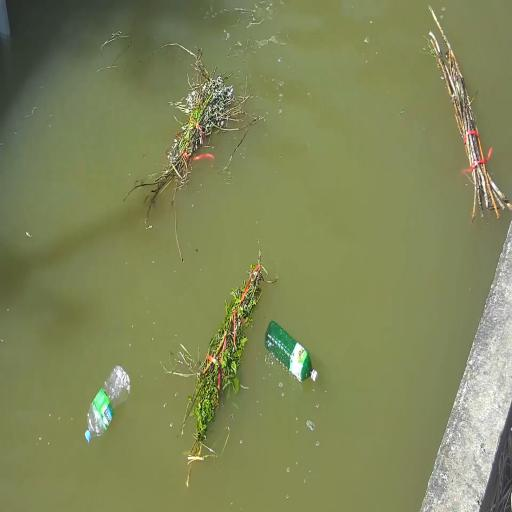plastic: (73, 355, 135, 454), (263, 312, 330, 394)
twig: (168, 255, 268, 449), (420, 14, 505, 219), (146, 66, 241, 210)
